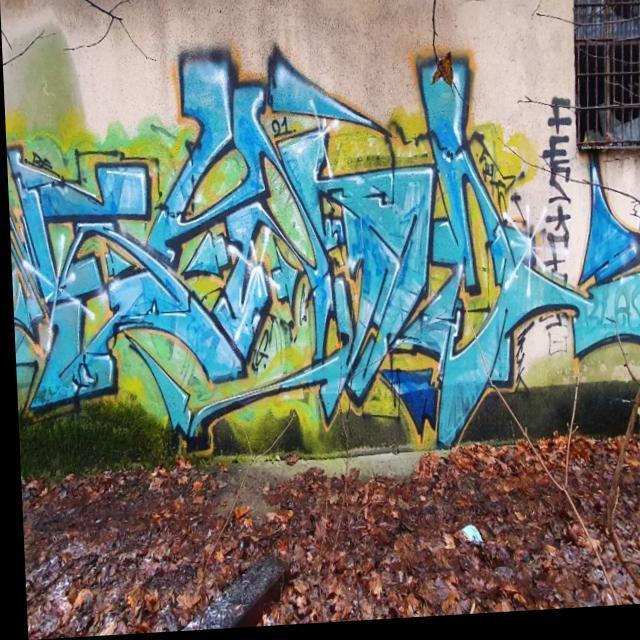nonspitting: (11, 44, 640, 445)
